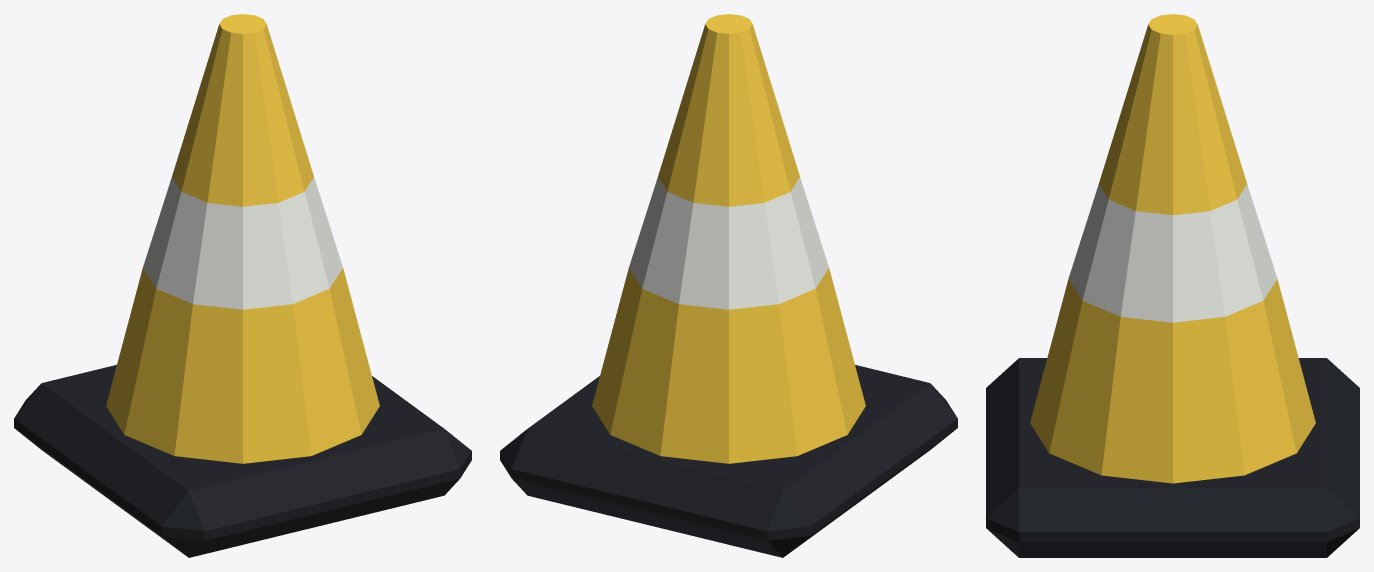
The model's file is traffic_cone_yellow.glb.
3 views of the same model, side by side, from view 1: azimuth 30°, elevation 25°; view 2: azimuth 150°, elevation 25°; view 3: azimuth 270°, elevation 25° (orthographic). The views are drawn at different scales.
Parts seen in each view (by area): view 1: traffic_cone_yellow__static; view 2: traffic_cone_yellow__static; view 3: traffic_cone_yellow__static.
Boxes of the visible parts, box(x1,y1,x2,y2) form: traffic_cone_yellow__static: box(14, 14, 471, 557); traffic_cone_yellow__static: box(500, 14, 957, 557); traffic_cone_yellow__static: box(986, 14, 1359, 557).
Bounding box in the file's own units: 0.68 × 0.94 × 0.68.
